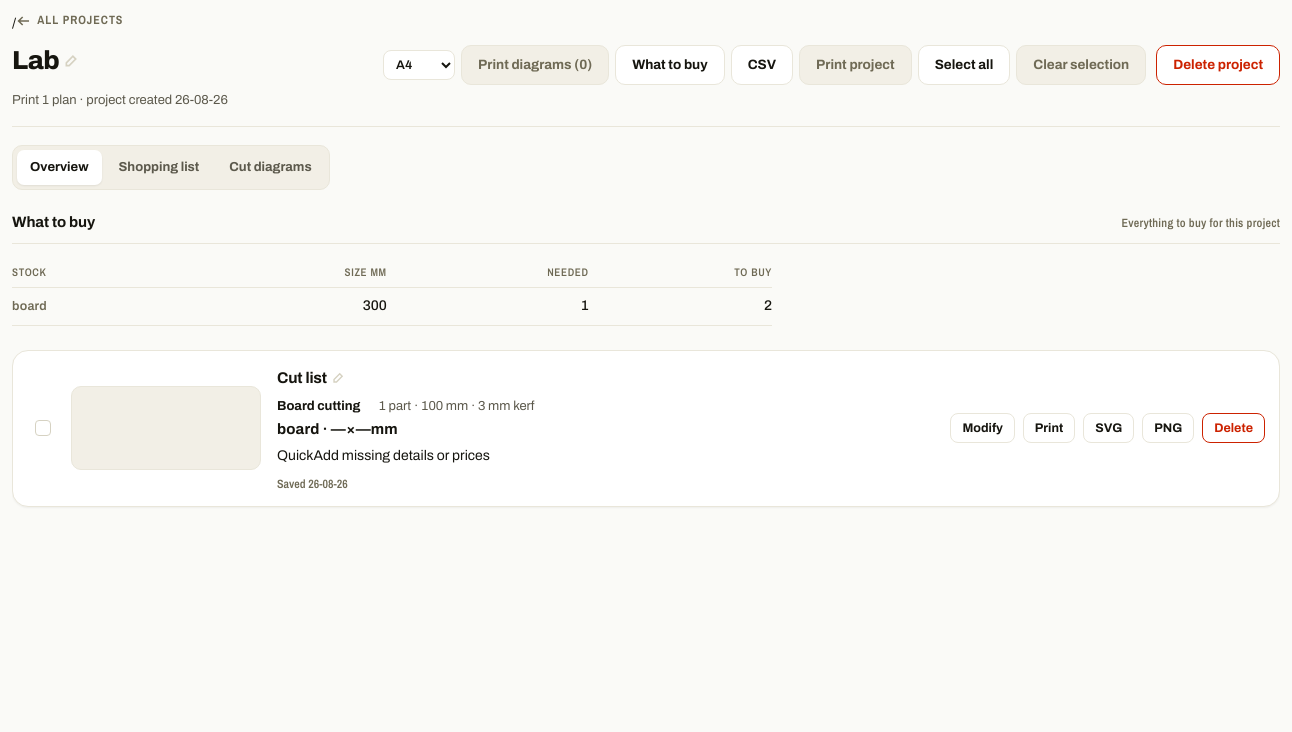
Scenario: switches between the project browser views
Click the button "Shopping list" at point(159, 167), box [106,150,212,185]
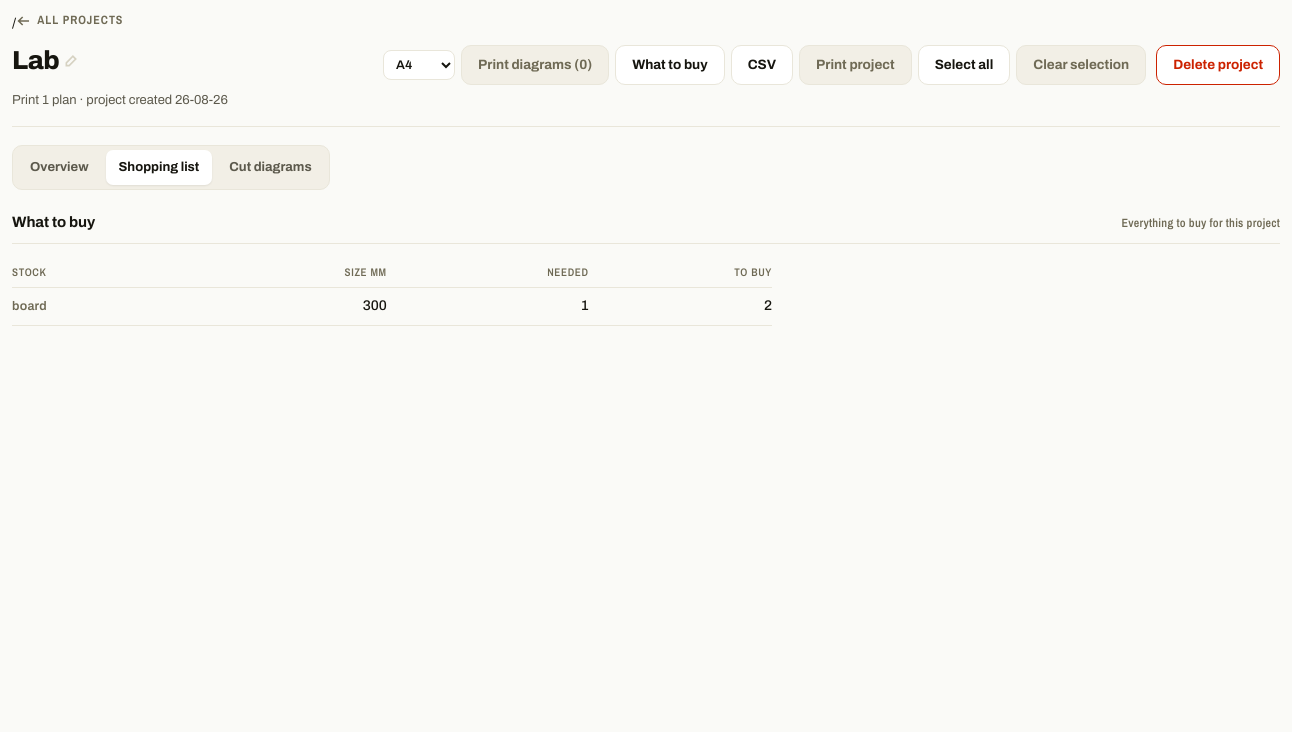
Expected: the element with test id "project-shopping-list" is shown, [12,212,1280,326]
Click the button "Cut diagrams" at point(270, 167), box [216,150,325,185]
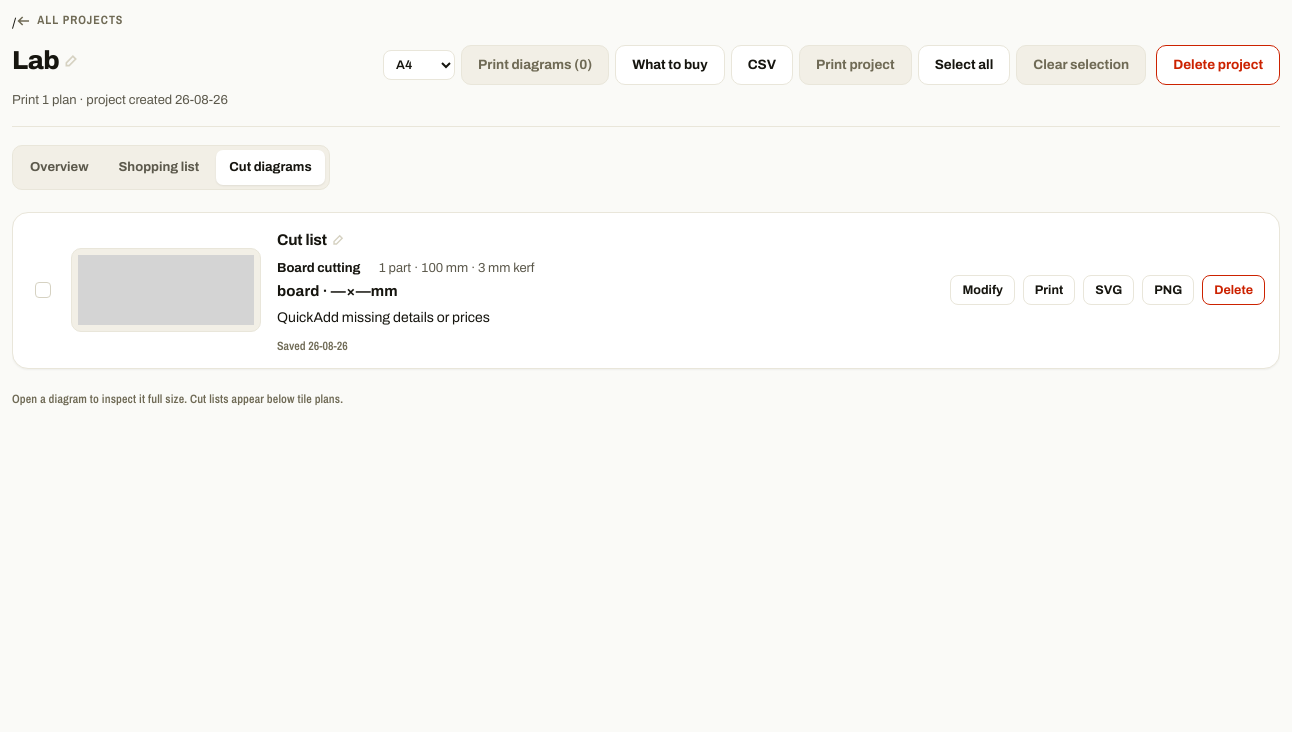
Now the checkbox named "Select plan \"Cut list\"" is shown, box [35,282,51,298]
